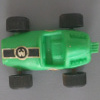verde_oeste: (1, 15, 100, 90)
